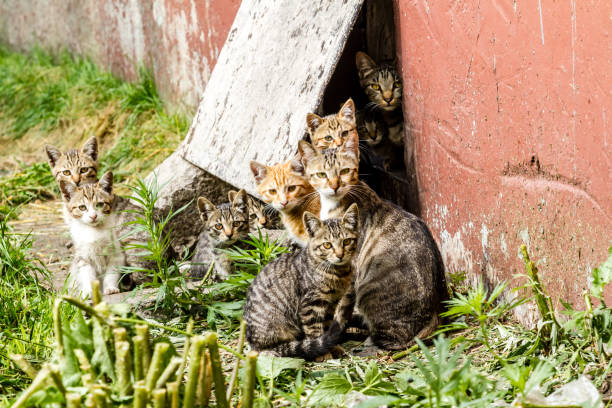Cat: (242, 208, 365, 354), (62, 174, 139, 285), (195, 196, 253, 282), (299, 143, 366, 202), (38, 140, 99, 185)
